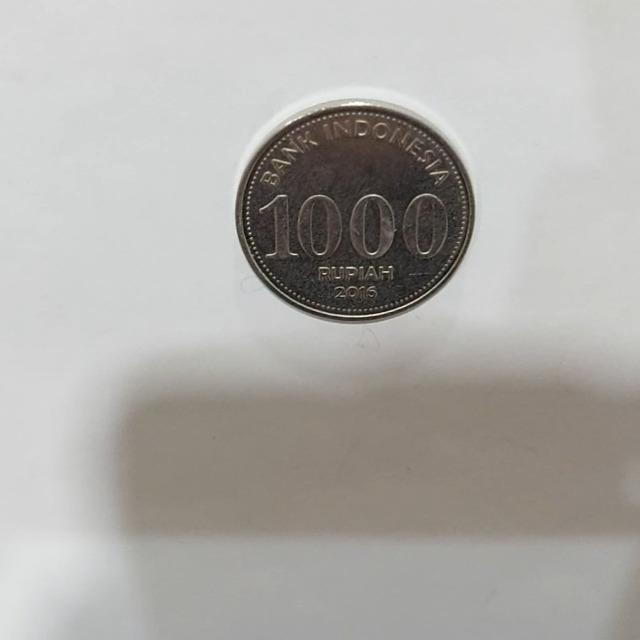Rp100: (233, 92, 476, 324)
